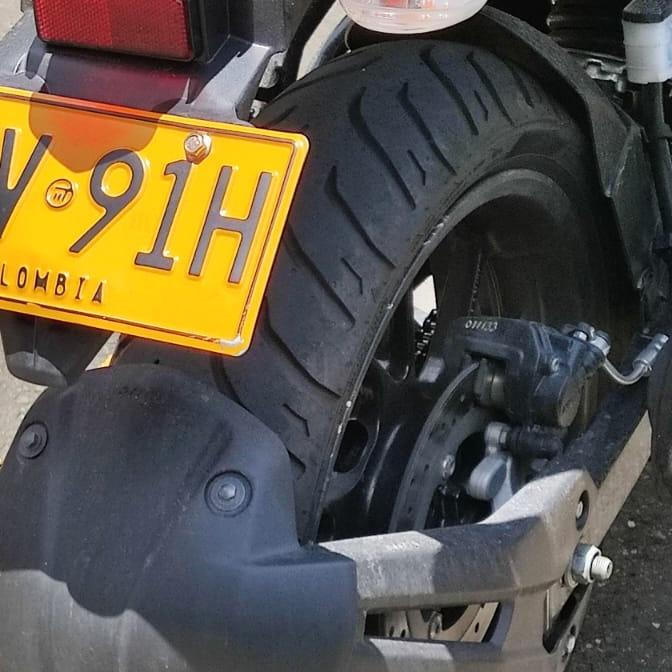plates: (0, 84, 309, 354)
